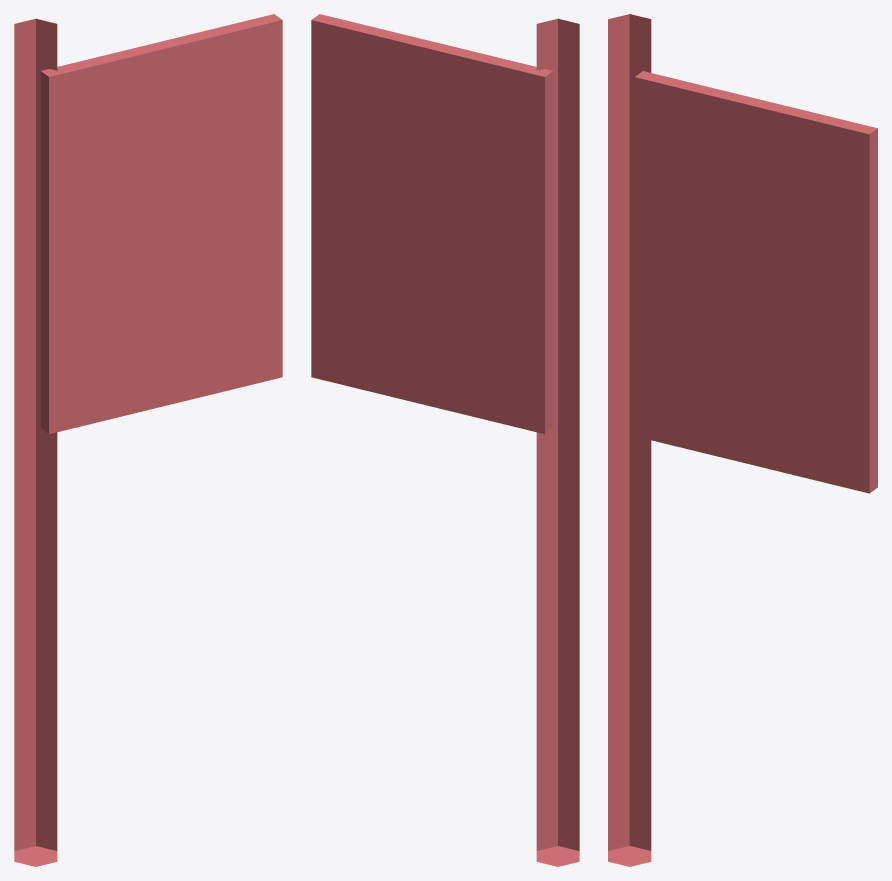
The model's file is Flag.glb.
3 renders of one model, left to right at view 1: azimuth 30°, elevation 25°; view 2: azimuth 150°, elevation 25°; view 3: azimuth 330°, elevation 25°, orthographic.
Parts seen in each view (by area): view 1: filler_Flag; view 2: filler_Flag; view 3: filler_Flag.
Boxes of the visible parts, <box> form: filler_Flag: <box>14,14,282,866</box>; filler_Flag: <box>311,14,579,866</box>; filler_Flag: <box>608,14,877,866</box>.
Bounding box in the file's own units: 0.735 × 2.2 × 0.1039.
